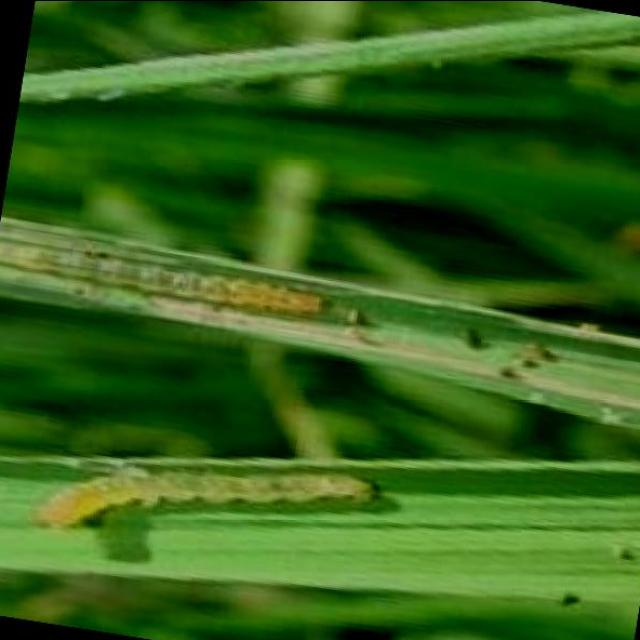leaf folder: (3, 225, 324, 320), (37, 470, 376, 528)
